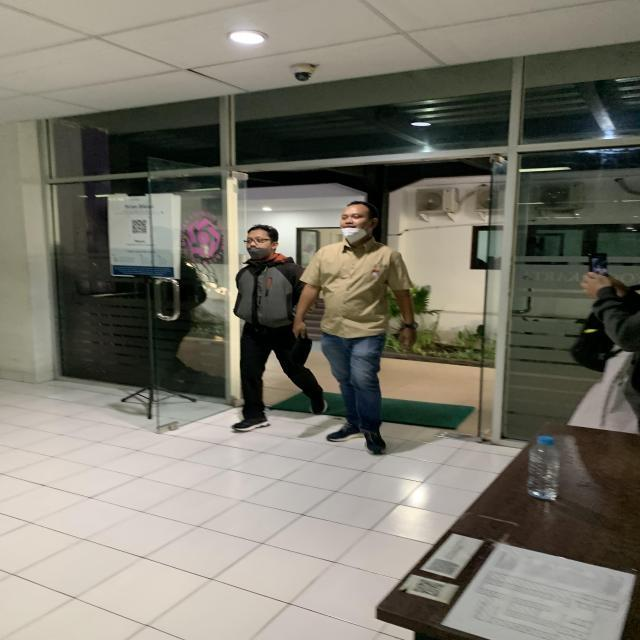hairnet: (330, 200, 394, 245), (232, 221, 286, 263)
